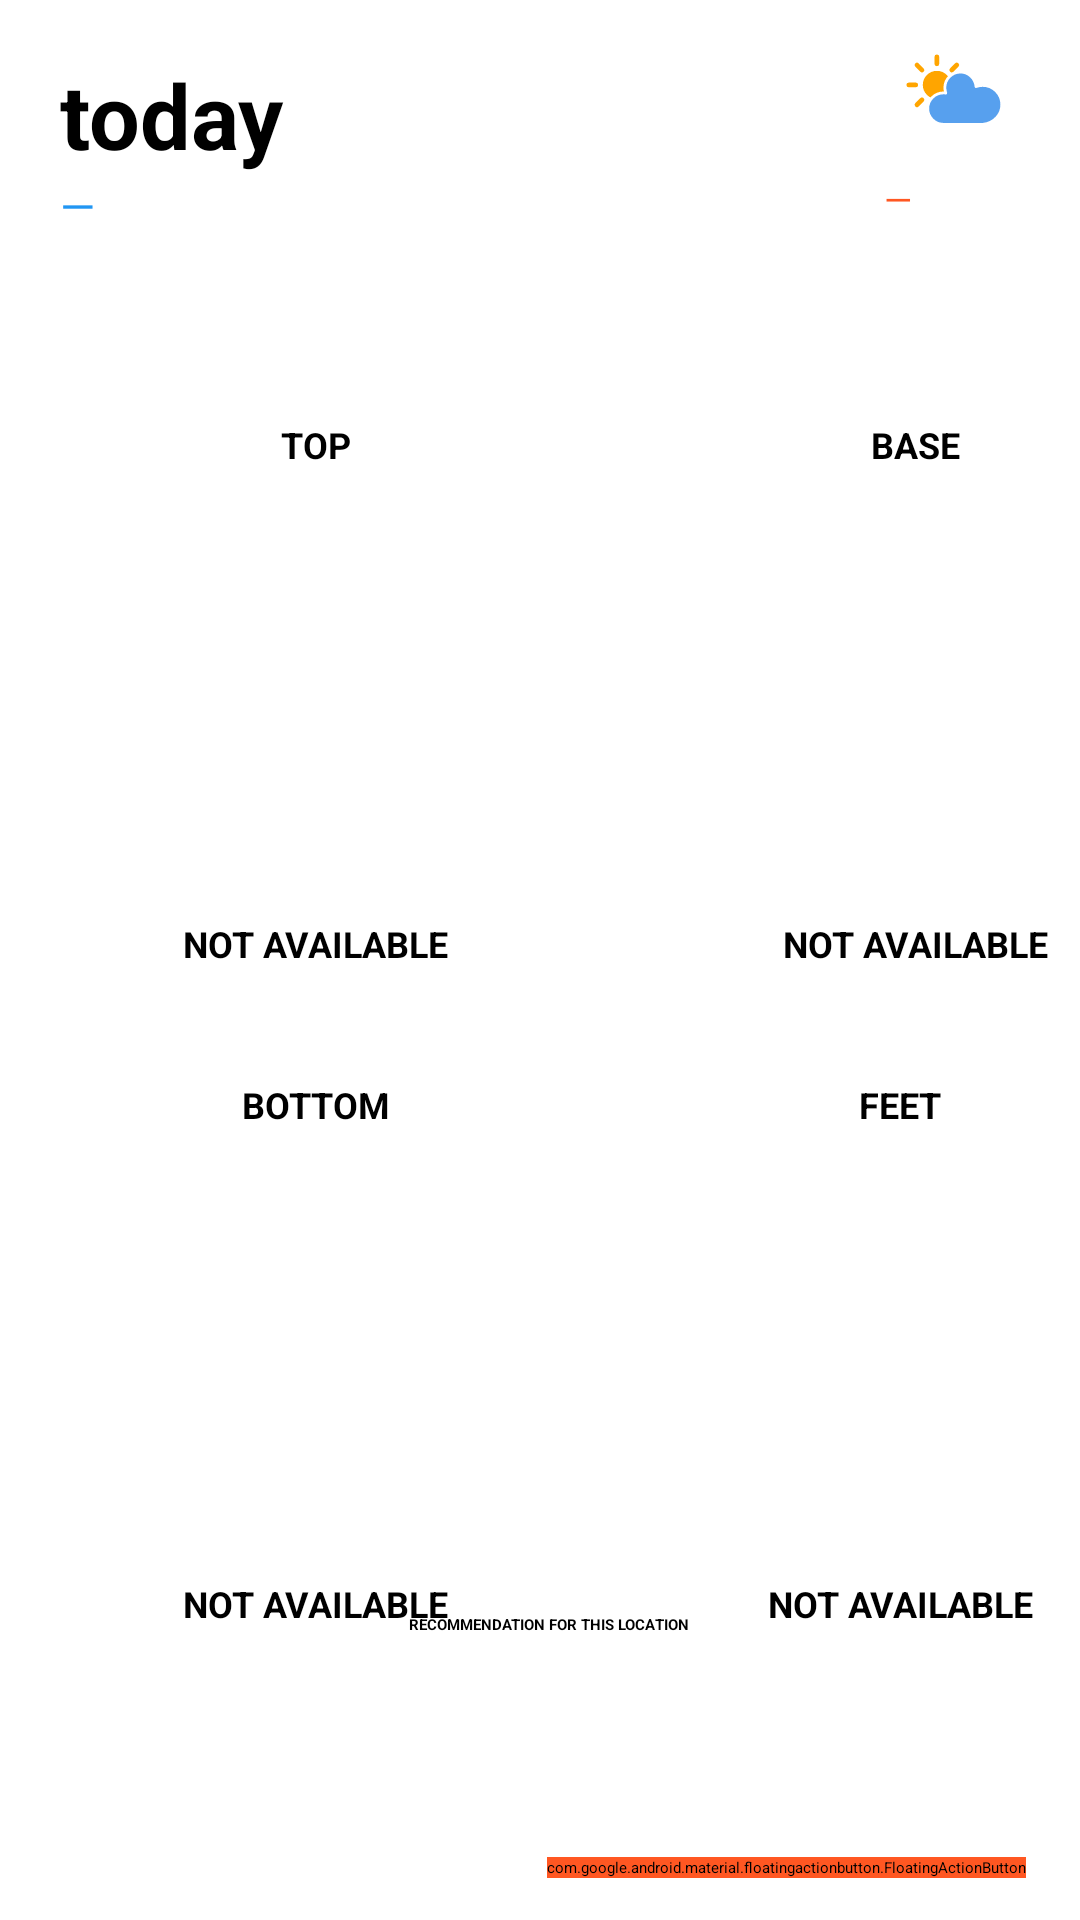

Icon click points for this 1080x1920 phone screenshot, format [x,y]:
cloudy day: [953,88]
